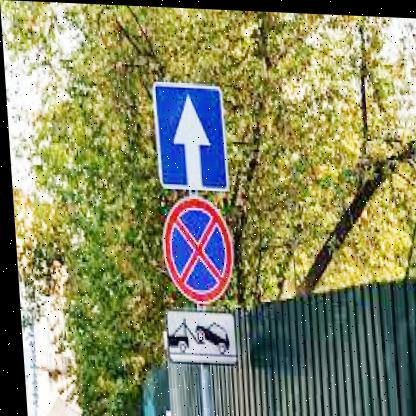No stopping: (155, 193, 235, 304)
